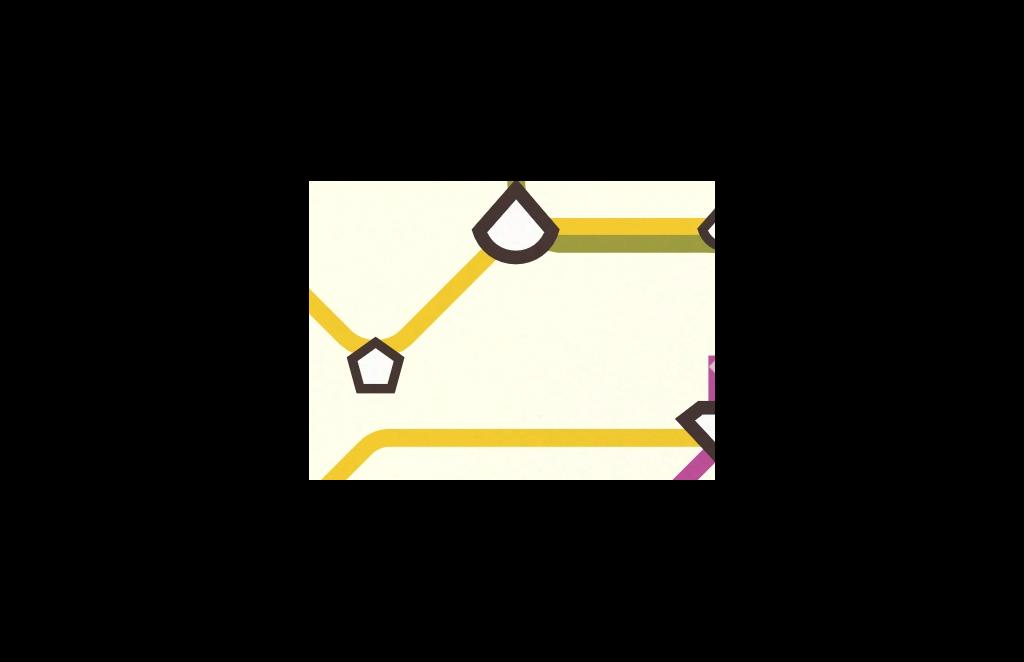connected_station: (443, 181, 574, 290), (338, 330, 410, 406), (657, 382, 715, 474), (686, 192, 715, 256)
train: (696, 346, 715, 412)
